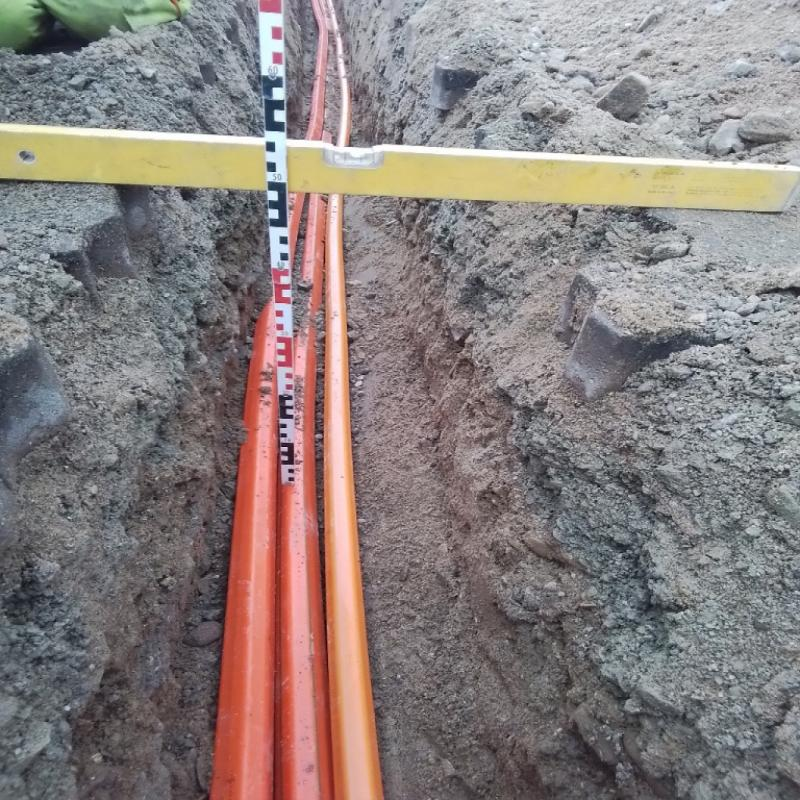Orang-Speednetrohrchen: (212, 303, 277, 800), (326, 229, 379, 799), (281, 203, 330, 799)
